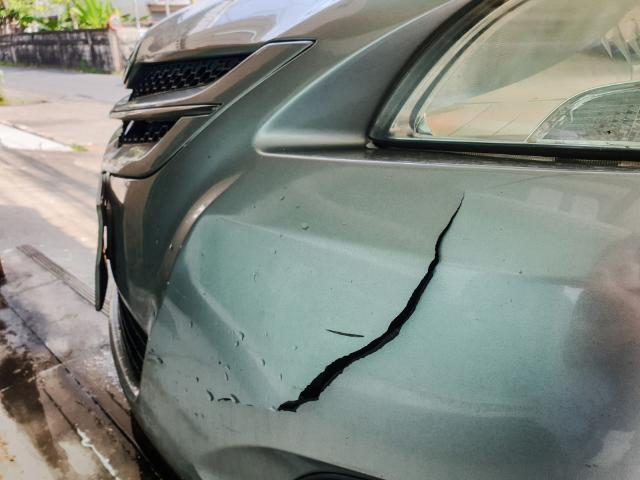crack: (274, 189, 467, 414)
